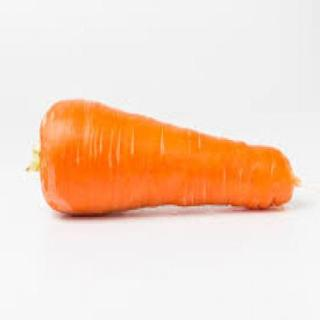Wortel: (40, 98, 297, 217)
